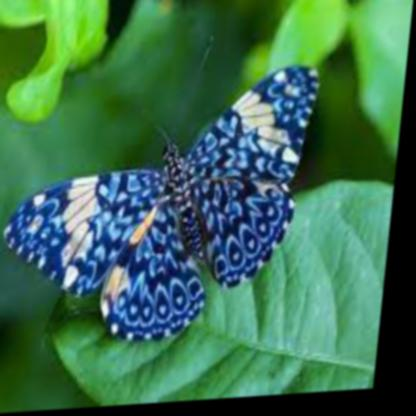Butterfly: (2, 64, 328, 360)
